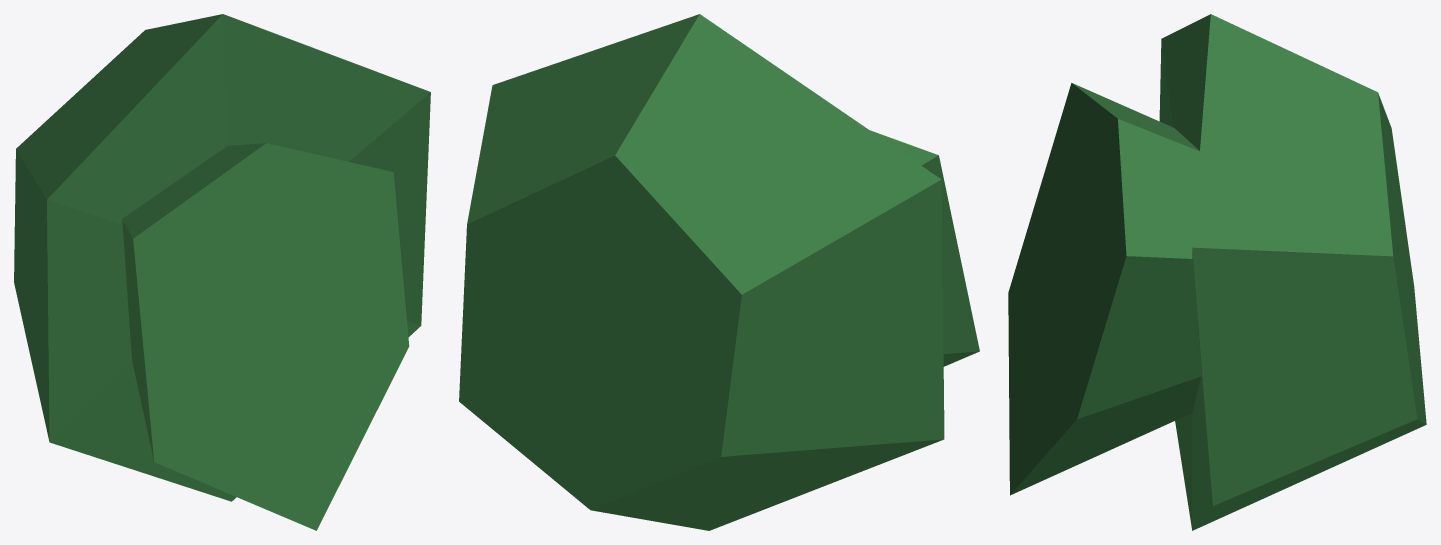
File: firDestroy2.fbx
3 views of the same model, side by side, from view 1: azimuth 30°, elevation 25°; view 2: azimuth 150°, elevation 25°; view 3: azimuth 270°, elevation 25° (orthographic). The views are drawn at different scales.
Parts seen in each view (by area): view 1: Цилиндр; view 2: Цилиндр; view 3: Цилиндр.
Part boxes in pixels (<box>): Цилиндр: <box>14,14,430,530</box>; Цилиндр: <box>459,14,979,530</box>; Цилиндр: <box>1008,14,1426,530</box>.
Size of the model in its own units: 175 by 202 by 148.
